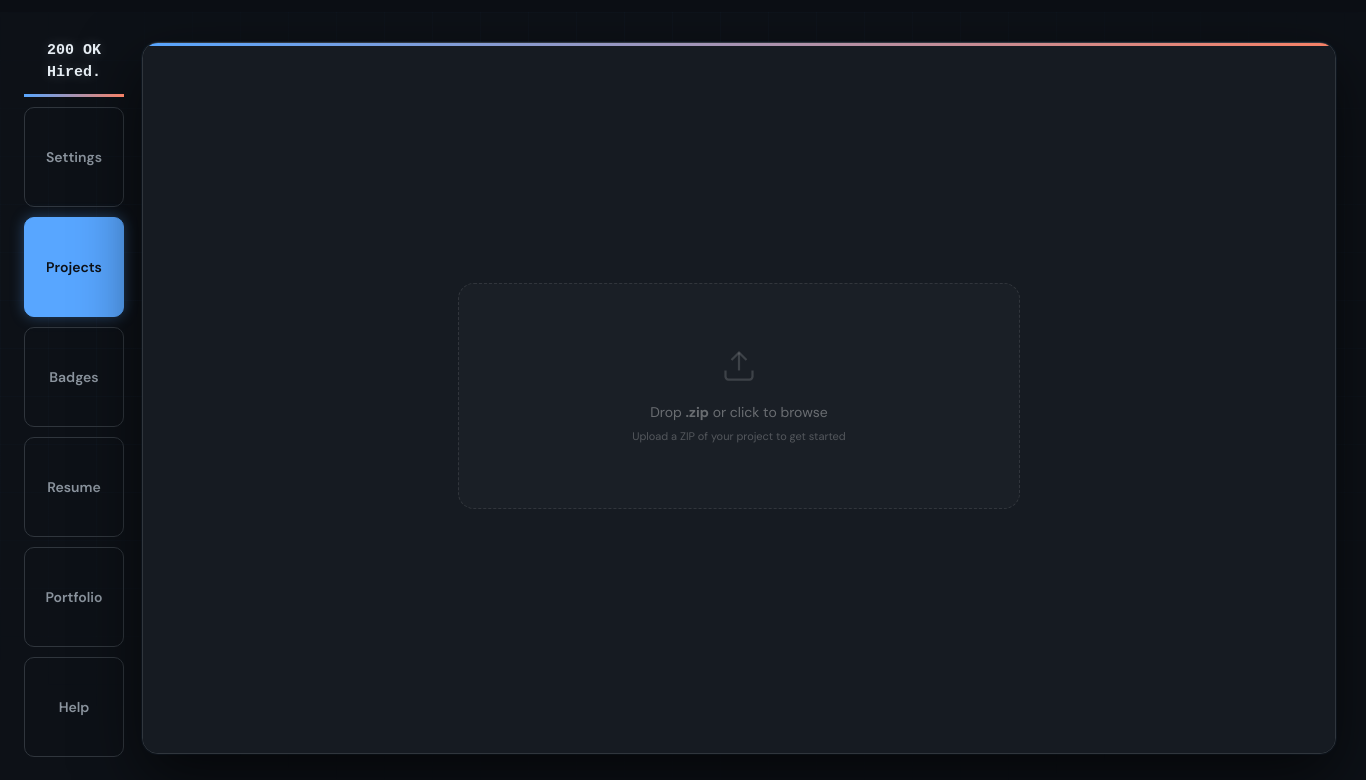
App badges heatmap › only shows started badges in progress list
Click the button "Badges" at (74, 377), box [24,327,124,427]
(page scrolled)
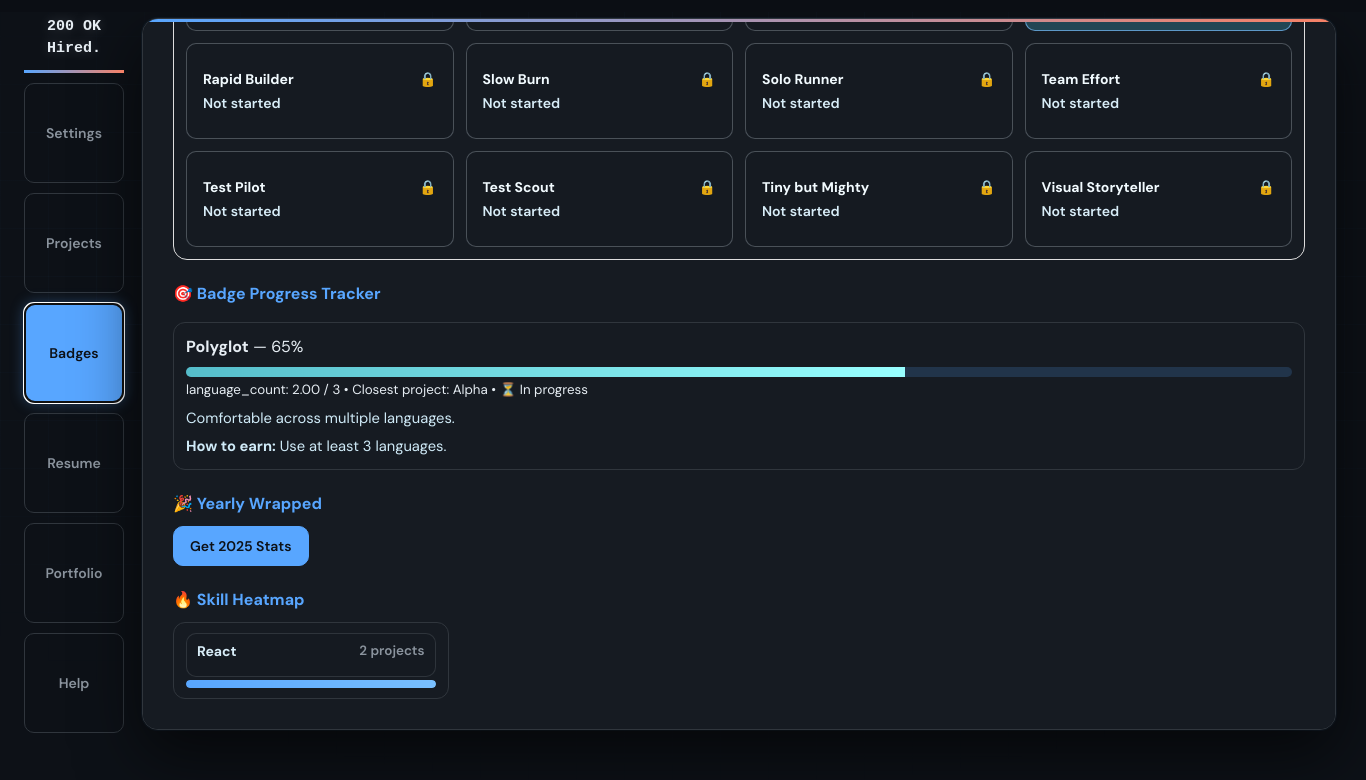
Expected: the heading "🎯 Badge Progress Tracker" is shown, [173,283,380,304]
Expected: the list with class "in-progress-list" shows "Polyglot", [186,336,249,357]
Expected: the list with class "in-progress-list" shows "65%", [173,322,1305,470]
